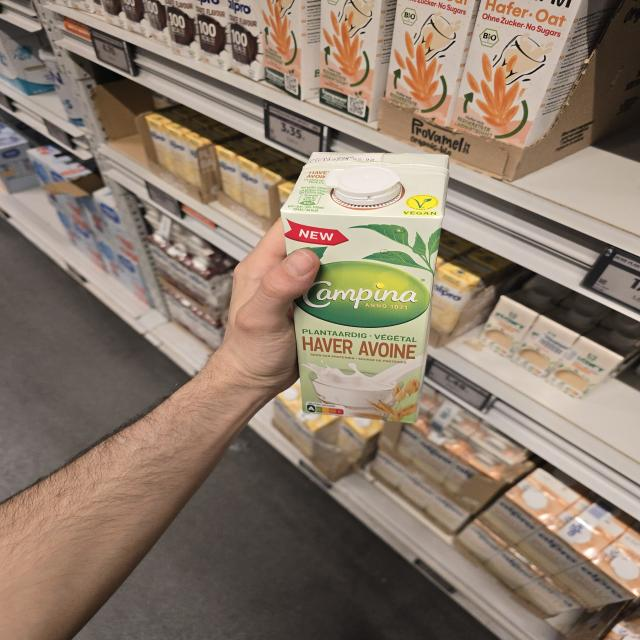Milk: (283, 153, 448, 425)
